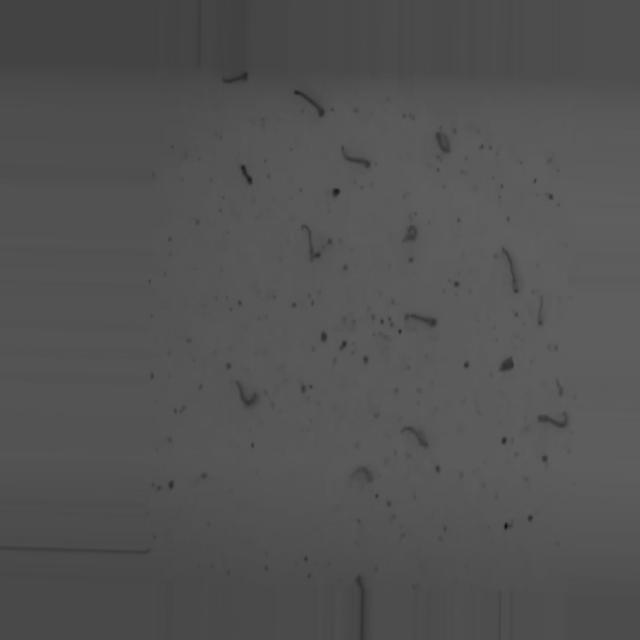larvas: (504, 241, 519, 294), (292, 90, 325, 114), (234, 378, 260, 408), (538, 408, 571, 427), (302, 224, 318, 262), (404, 424, 428, 449), (343, 144, 369, 167), (219, 70, 251, 86), (407, 311, 440, 326), (352, 463, 377, 482), (535, 295, 548, 329), (403, 222, 422, 243), (240, 162, 256, 184), (437, 129, 452, 149)
